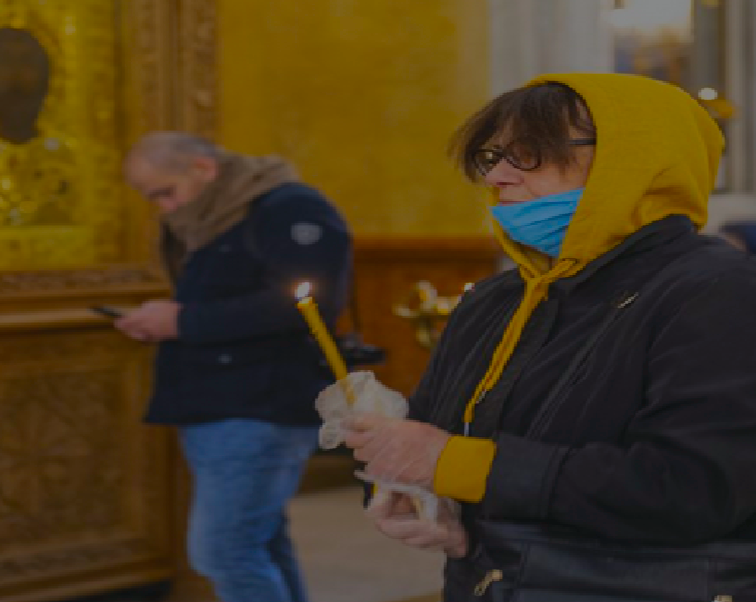mask_weared_incorrect: (467, 72, 715, 257)
